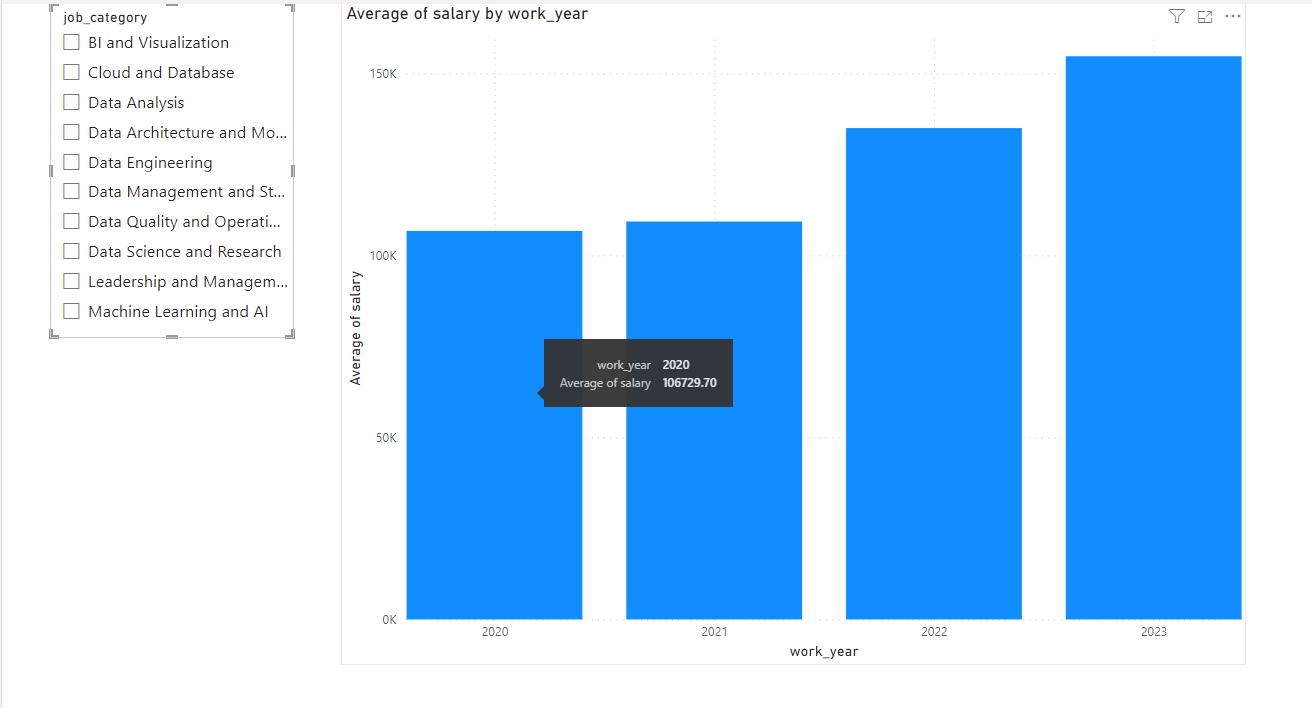

What the dashboard file says about the page in this screenshot:
{"tool":"powerbi","page":{"name":"Page 1","canvas":[1280,720],"ordinal":0},"visuals":[{"type":"slicer","fields":{"Values":["Worksheet.job_category"]},"box":[46.7,34.3,237.4,325.2],"z":0},{"type":"columnChart","fields":{"Y":["Avg(Worksheet.salary)"],"Category":["Worksheet.work_year"]},"box":[329.3,34.3,881,643.6],"z":1000}]}

Visuals, with their boxes on the page's 1280x720 design canvas (x1, y1, x2, y2). These are canvas units, not pixel positions in the 1312x708 screenshot, which may show the page scaled, cropped or inside an application window:
slicer - Worksheet.job_category: region(47, 34, 284, 360)
columnChart - Avg(Worksheet.salary) x Worksheet.work_year: region(329, 34, 1210, 678)
